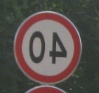Speed limit: (8, 13, 89, 81)
